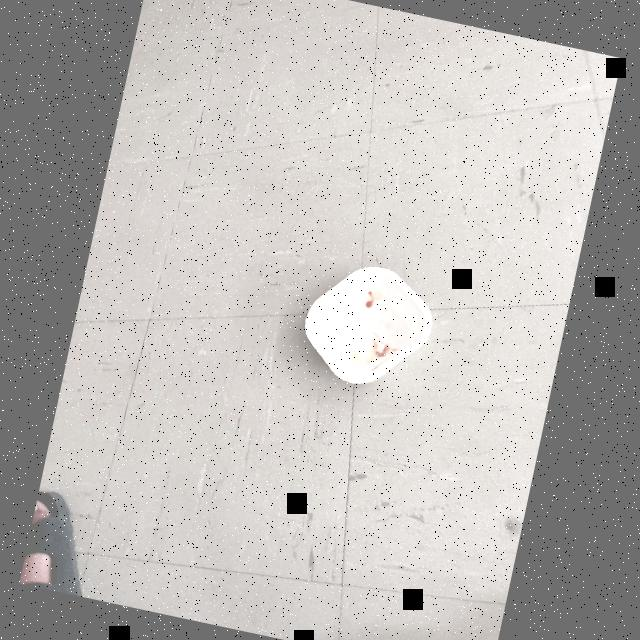cardboard_bowl: (287, 248, 447, 404)
